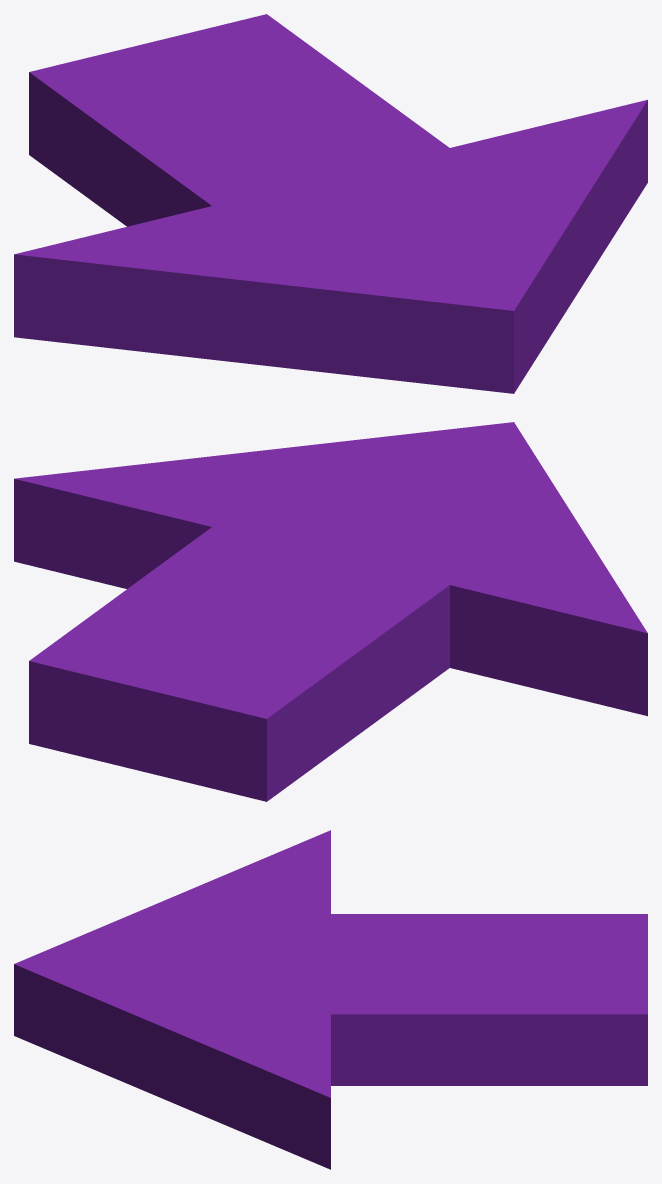
The model's file is Purple Directional Arrow.glb.
3 views of the same model, one above another, from view 1: azimuth 30°, elevation 25°; view 2: azimuth 150°, elevation 25°; view 3: azimuth 270°, elevation 25° (orthographic). The views are drawn at different scales.
Parts seen in each view (by area): view 1: cube; view 2: cube; view 3: cube.
Part boxes in pixels (box(x1,y1,x2,y2)): cube: box(14, 14, 647, 393); cube: box(14, 422, 647, 801); cube: box(14, 830, 647, 1169).
Bounding box in the file's own units: 1 × 0.125 × 1.
1 material, 1 textured.
